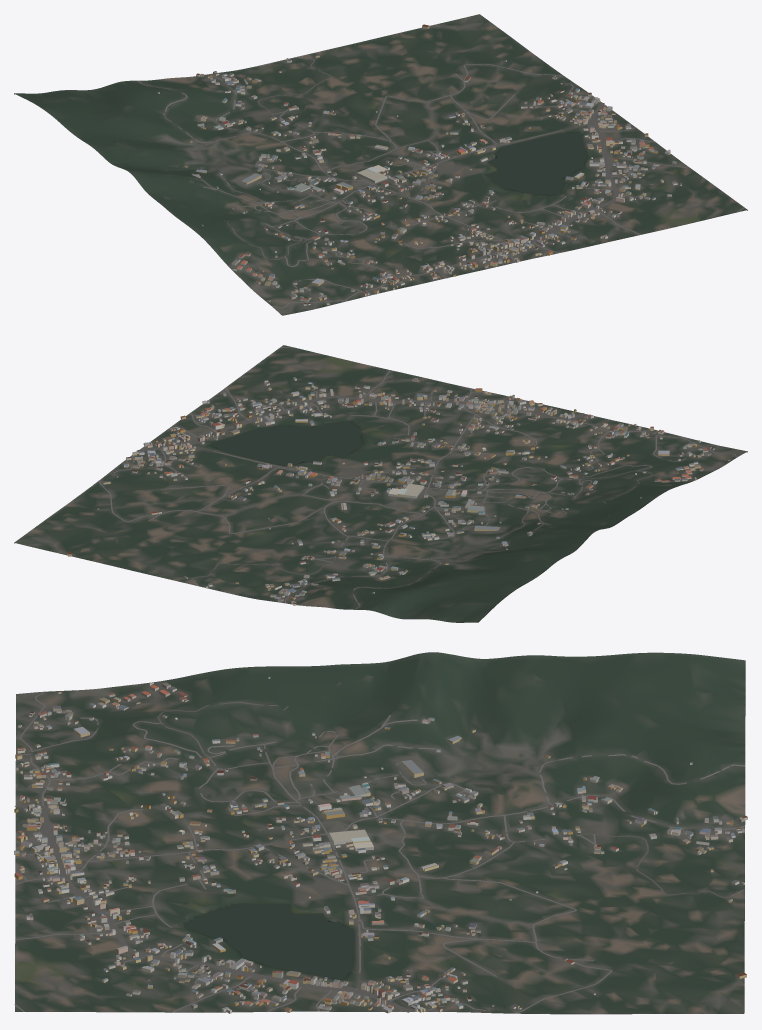
3 renders of one model, top to bottom at view 1: azimuth 30°, elevation 25°; view 2: azimuth 150°, elevation 25°; view 3: azimuth 270°, elevation 25°, orthographic. The views are drawn at different scales.
Parts seen in each view (by area): view 1: ground, buildings, roads, water; view 2: ground, buildings, roads, water; view 3: ground, buildings, roads, water.
Boxes of the visible parts, <box> form: ground: <box>14,14,747,315</box>; buildings: <box>157,24,681,305</box>; roads: <box>138,57,744,308</box>; water: <box>485,132,587,194</box>; ground: <box>14,345,747,622</box>; buildings: <box>67,377,730,605</box>; roads: <box>99,347,737,609</box>; water: <box>210,420,362,465</box>; ground: <box>15,652,745,1014</box>; buildings: <box>14,676,747,1013</box>; roads: <box>14,691,745,1013</box>; water: <box>184,903,355,979</box>.
Size of the model in its own units: 1407 by 118 by 1410.
